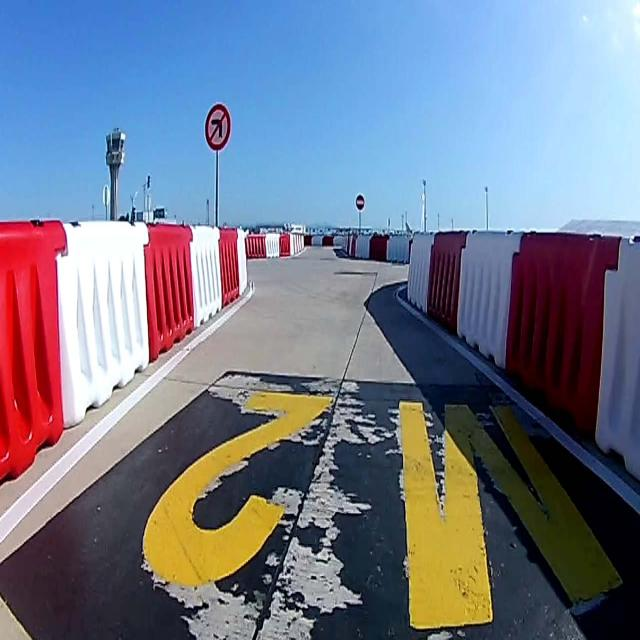girisyok: (355, 192, 365, 212)
soladonulmez: (205, 102, 230, 148)
